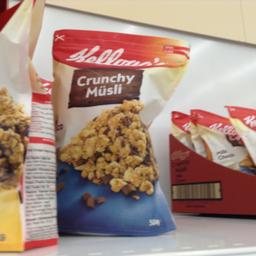cereal: (50, 28, 191, 236)
